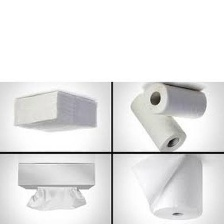book: (13, 158, 99, 192)
tissue: (124, 153, 208, 221), (7, 86, 102, 140), (125, 88, 190, 153), (140, 81, 210, 123), (21, 181, 90, 216)
